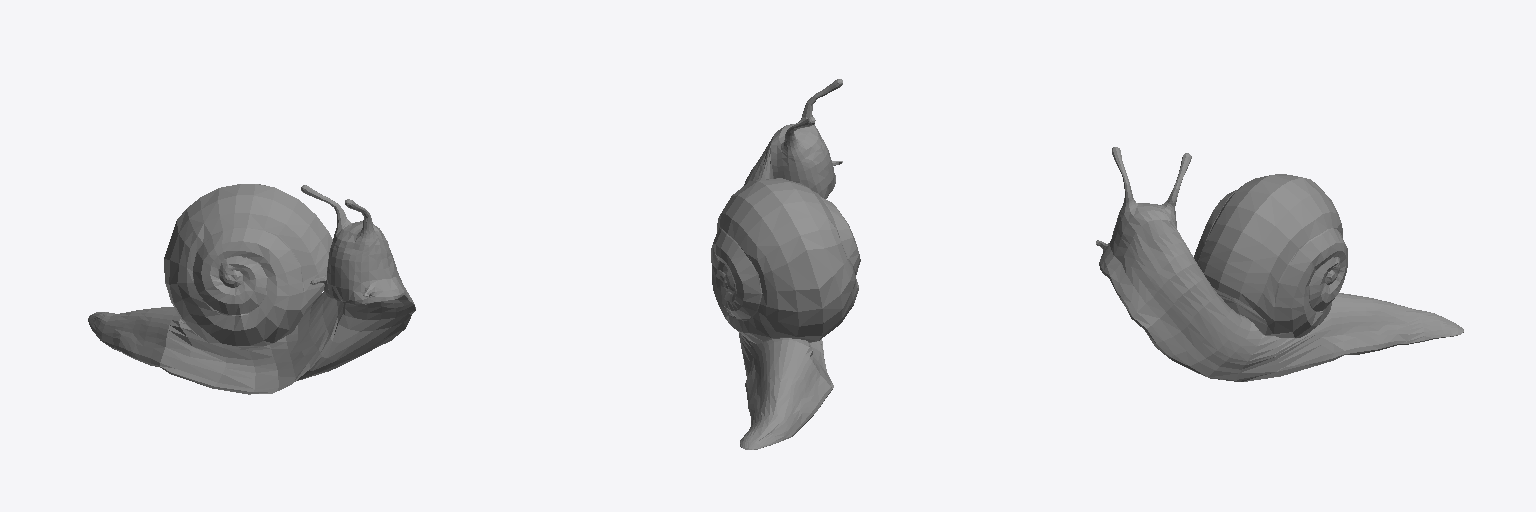
Rendered from caracol.obj.
The picture shows the model from 3 angles: view 1: azimuth 30°, elevation 25°; view 2: azimuth 150°, elevation 25°; view 3: azimuth 270°, elevation 25°; orthographic projection.
Visible parts, largest first — view 1: Snail_LP, Shell_LP; view 2: Shell_LP, Snail_LP; view 3: Snail_LP, Shell_LP.
Part boxes in pixels (left/top/right/bottom): Snail_LP: left=88, top=185, right=415, bottom=394; Shell_LP: left=164, top=184, right=332, bottom=348; Shell_LP: left=711, top=178, right=860, bottom=344; Snail_LP: left=739, top=79, right=842, bottom=449; Snail_LP: left=1096, top=147, right=1463, bottom=381; Shell_LP: left=1194, top=174, right=1347, bottom=337.
Bounding box in the file's own units: 1.04 × 1.27 × 1.86.